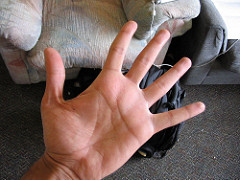palm: (67, 85, 140, 172)
